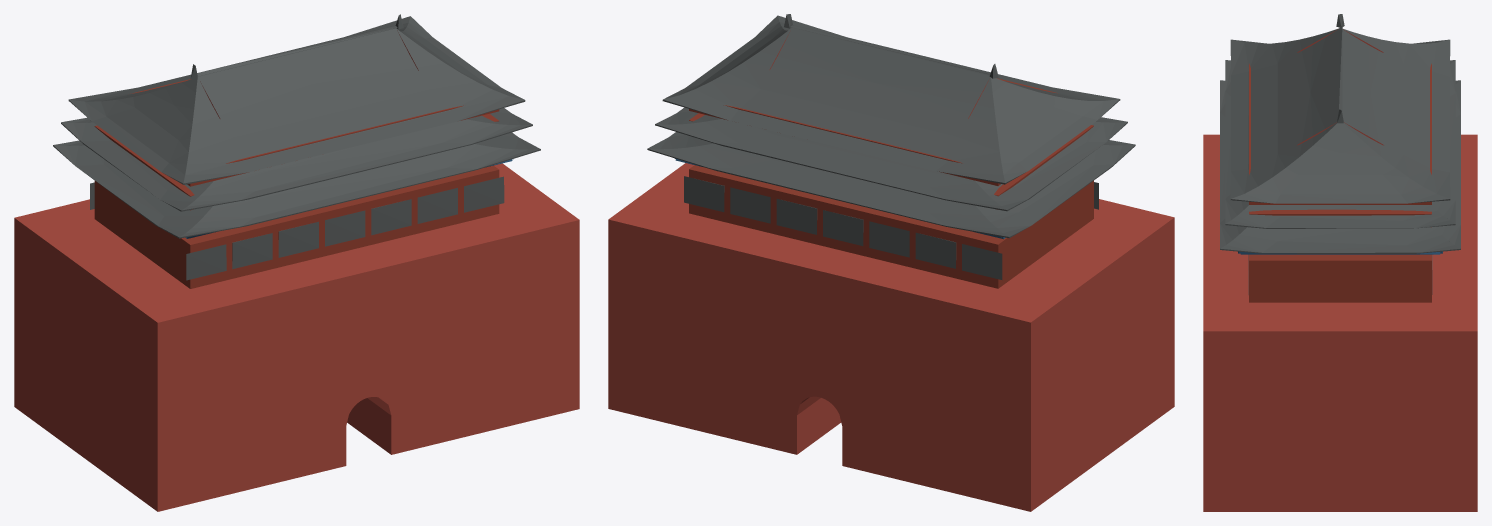
Rendered from gulou-far-d4b5d2bae4.glb.
3 views of the same model, side by side, from view 1: azimuth 30°, elevation 25°; view 2: azimuth 150°, elevation 25°; view 3: azimuth 270°, elevation 25° (orthographic). The views are drawn at different scales.
Parts seen in each view (by area): view 1: gulou coarse.001; view 2: gulou coarse.001; view 3: gulou coarse.001.
Part boxes in pixels (x1,y1,x2,y2): gulou coarse.001: (14, 14, 579, 511); gulou coarse.001: (608, 14, 1174, 511); gulou coarse.001: (1203, 14, 1477, 511).
Size of the model in its own units: 56 by 46.7 by 33.
